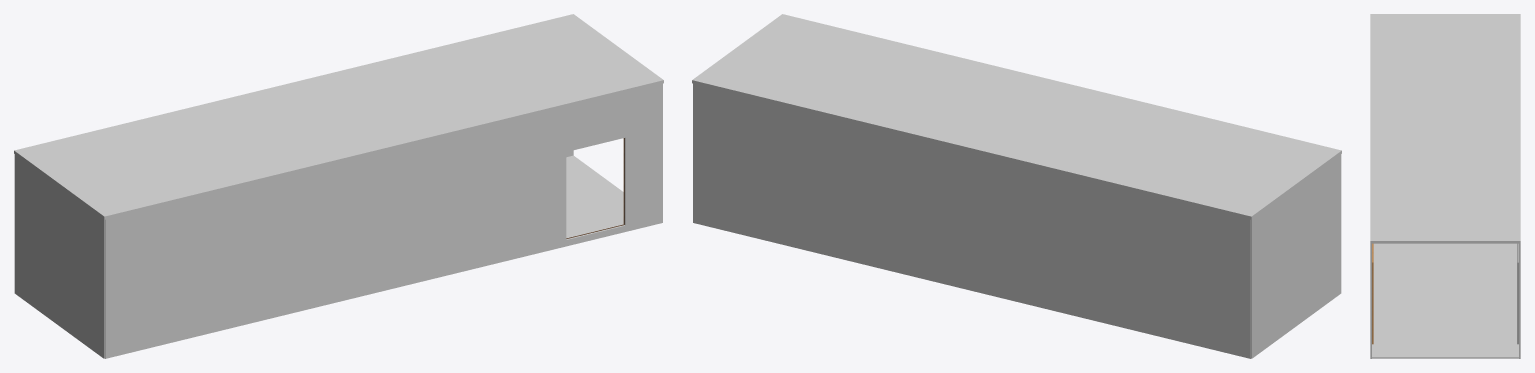
Rendered from Corridor.fbx.
The picture shows the model from 3 angles, left to right: view 1: azimuth 30°, elevation 25°; view 2: azimuth 150°, elevation 25°; view 3: azimuth 270°, elevation 25°; orthographic projection. The views are drawn at different scales.
Parts seen in each view (by area): view 1: Cube.001, Corridor_Ceiling, Cube.002, Cube; view 2: Cube.001, Corridor_Ceiling, Cube.002; view 3: Corridor_Ceiling, Cube, Cube.001, frame, frame.001.
Boxes of the visible parts, box(x1,y1,x2,y2) form: Cube.001: box(104, 83, 662, 358); Corridor_Ceiling: box(14, 14, 663, 219); Cube.002: box(14, 154, 104, 358); Cube: box(566, 155, 623, 238); Cube.001: box(693, 83, 1251, 358); Corridor_Ceiling: box(692, 14, 1341, 219); Cube.002: box(1251, 154, 1341, 358); Corridor_Ceiling: box(1370, 14, 1520, 243); Cube: box(1371, 243, 1519, 358); Cube.001: box(1370, 243, 1520, 358); frame: box(1372, 243, 1373, 344); frame.001: box(1517, 243, 1518, 344).
Bounding box in the file's own units: 3610 × 879 × 1010.
